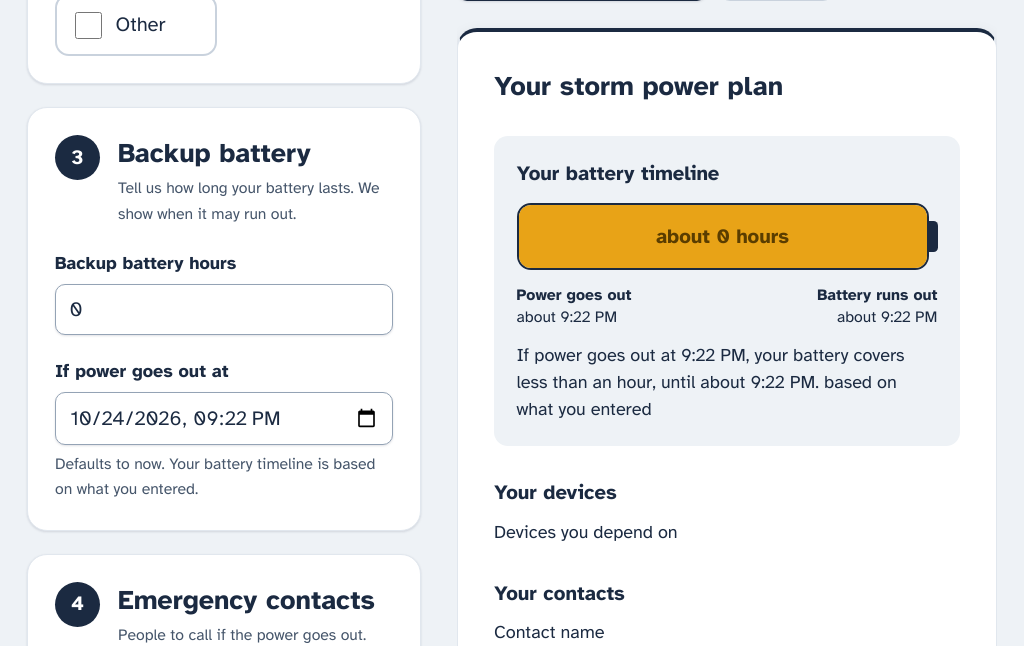
Test: PlanPage — battery hours validation (Req 4.6) › shows an inline prompt for a negative value and clears it for a valid one
(page scrolled)
Note: Negative input: the inline alert appears telling the user to use 0+.
Replace the text in the number field labelled "Backup battery hours" with "-2" at (224, 310), box [55,284,393,335]
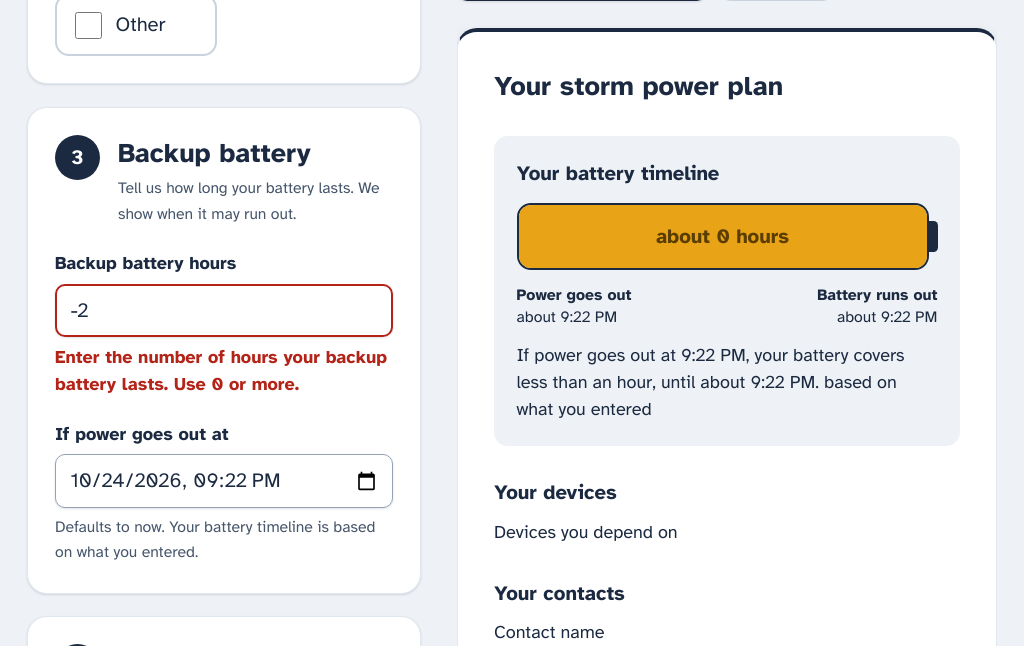
Expected: the message shows "Use 0 or more", [55,346,387,395]
Note: A valid value removes the prompt.
Replace the text in the number field labelled "Backup battery hours" with "4" at (224, 311), box [55,284,393,337]
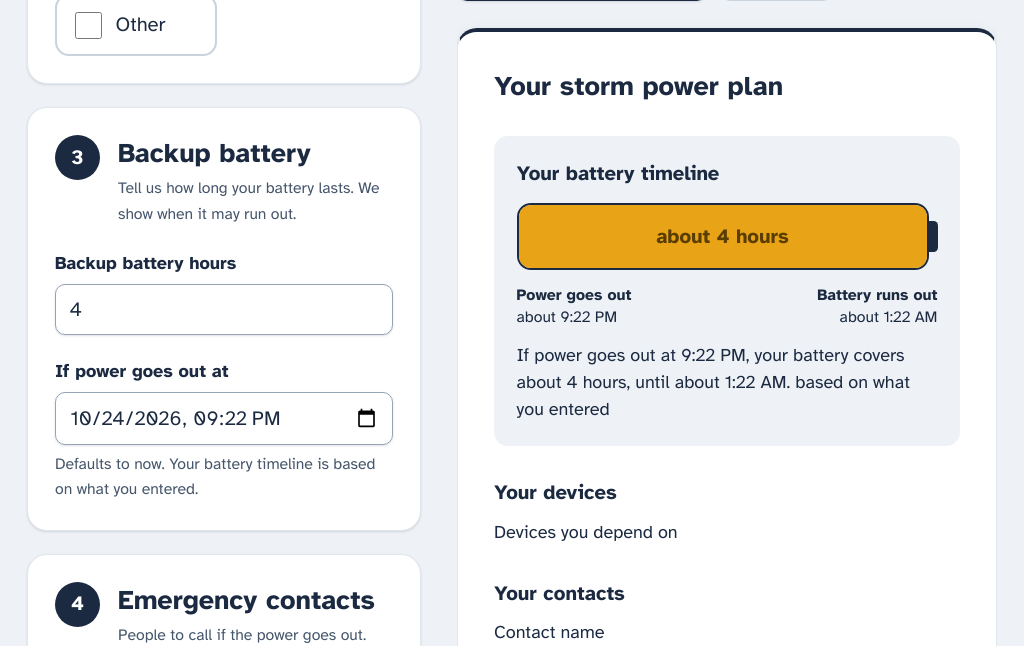
Expected: the message "Enter the number of hours your backup battery lasts. Use 0 or more." is gone
